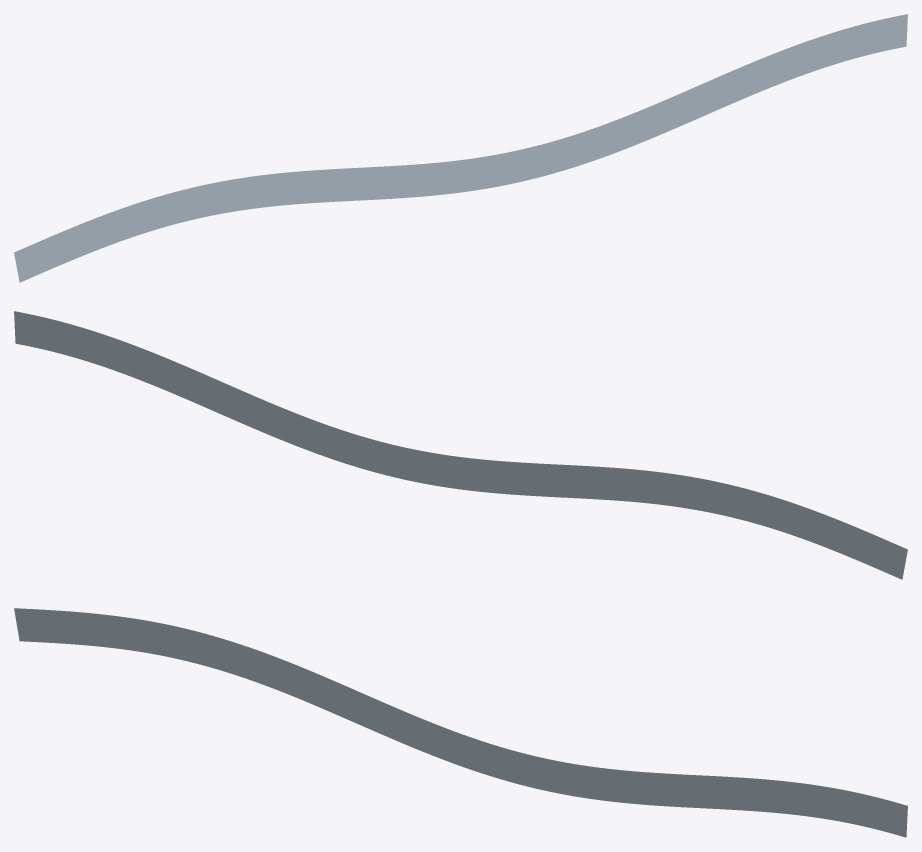
Rendered from Mona_StellarisPhantasm_WithStateHandoff_StarryWaterWave0.fbx.
The picture shows the model from 3 angles, top to bottom: view 1: azimuth 30°, elevation 25°; view 2: azimuth 150°, elevation 25°; view 3: azimuth 330°, elevation 25°; orthographic projection.
Parts seen in each view (by area): view 1: PART_ThinRollingStarryWater_0; view 2: PART_ThinRollingStarryWater_0; view 3: PART_ThinRollingStarryWater_0.
Boxes of the visible parts, <box> form: PART_ThinRollingStarryWater_0: <box>14,14,907,282</box>; PART_ThinRollingStarryWater_0: <box>14,311,907,579</box>; PART_ThinRollingStarryWater_0: <box>14,608,907,837</box>.
Bounding box in the file's own units: 841 × 66.98 × 1.09e-05.
